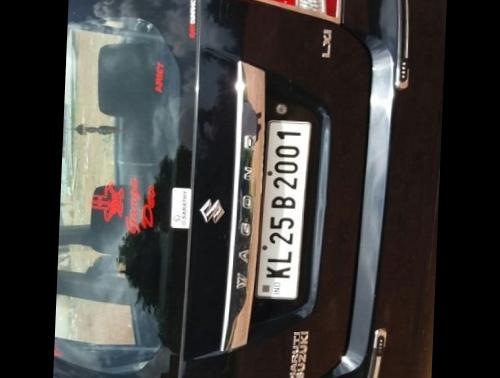plate: (256, 114, 314, 296)
